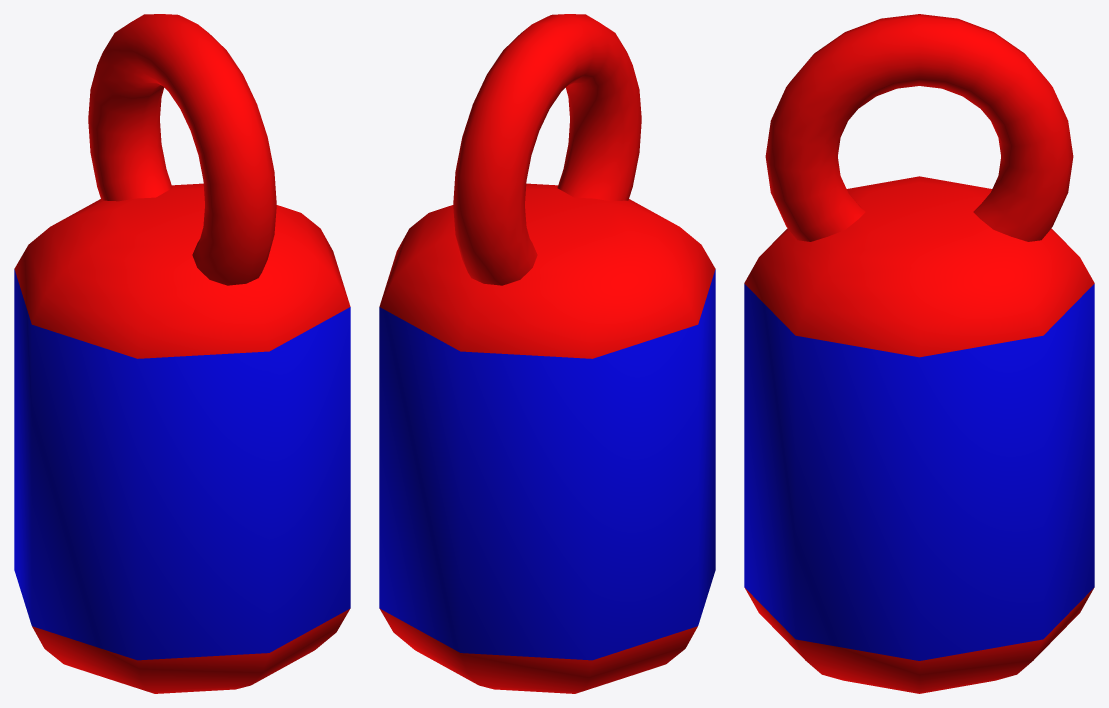
File: SM_Lamp.FBX
The picture shows the model from 3 angles, left to right: view 1: azimuth 30°, elevation 25°; view 2: azimuth 150°, elevation 25°; view 3: azimuth 270°, elevation 25°; orthographic projection.
Parts seen in each view (by area): view 1: Cylinder013; view 2: Cylinder013; view 3: Cylinder013.
Boxes of the visible parts, bbox=[...] form: Cylinder013: bbox=[14, 14, 350, 693]; Cylinder013: bbox=[379, 14, 715, 693]; Cylinder013: bbox=[744, 14, 1094, 693].
Size of the model in its own units: 4.08 by 8.24 by 4.08.
